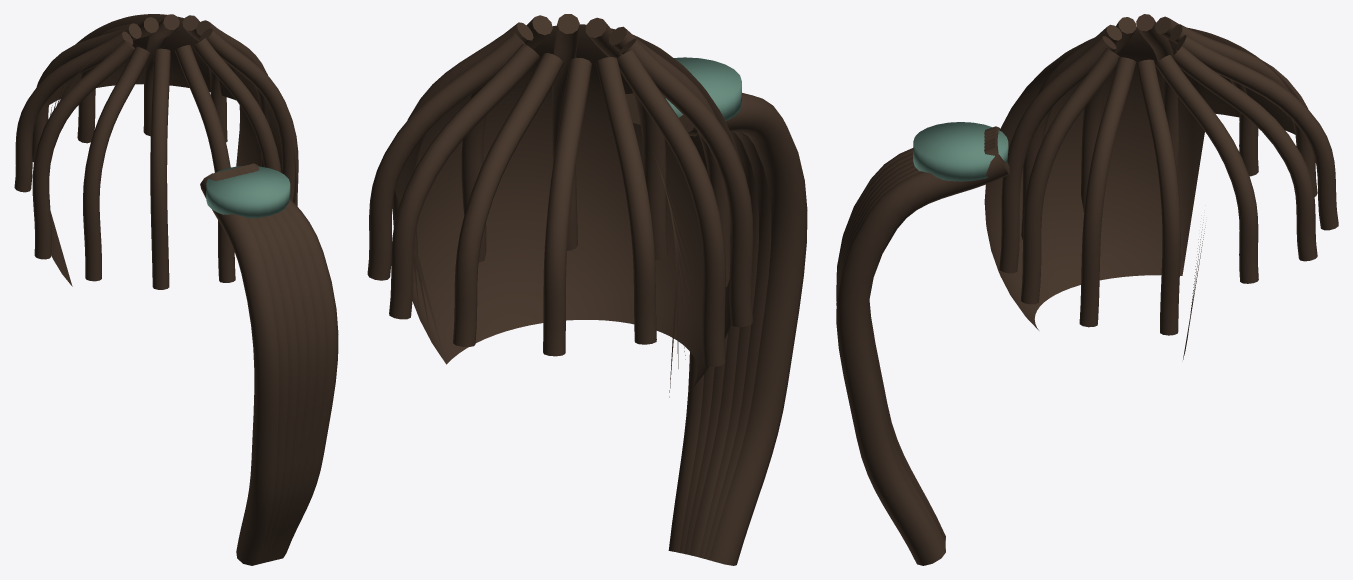
File: hair_ponytail.glb
3 renders of one model, left to right at view 1: azimuth 30°, elevation 25°; view 2: azimuth 150°, elevation 25°; view 3: azimuth 270°, elevation 25°, orthographic. The views are drawn at different scales.
Visible parts, largest first — view 1: hair_ponytail_Original_flowing_hair, hair_ponytail_V17_sage_enamel; view 2: hair_ponytail_Original_flowing_hair, hair_ponytail_V17_sage_enamel; view 3: hair_ponytail_Original_flowing_hair, hair_ponytail_V17_sage_enamel.
Boxes of the visible parts, box(x1,y1,x2,y2) form: hair_ponytail_Original_flowing_hair: box(14, 14, 338, 565); hair_ponytail_V17_sage_enamel: box(206, 166, 290, 218); hair_ponytail_Original_flowing_hair: box(367, 14, 807, 565); hair_ponytail_V17_sage_enamel: box(665, 57, 741, 121); hair_ponytail_Original_flowing_hair: box(836, 14, 1338, 565); hair_ponytail_V17_sage_enamel: box(913, 122, 1008, 181).
Size of the model in its own units: 0.2683 by 0.4816 by 0.4222.
